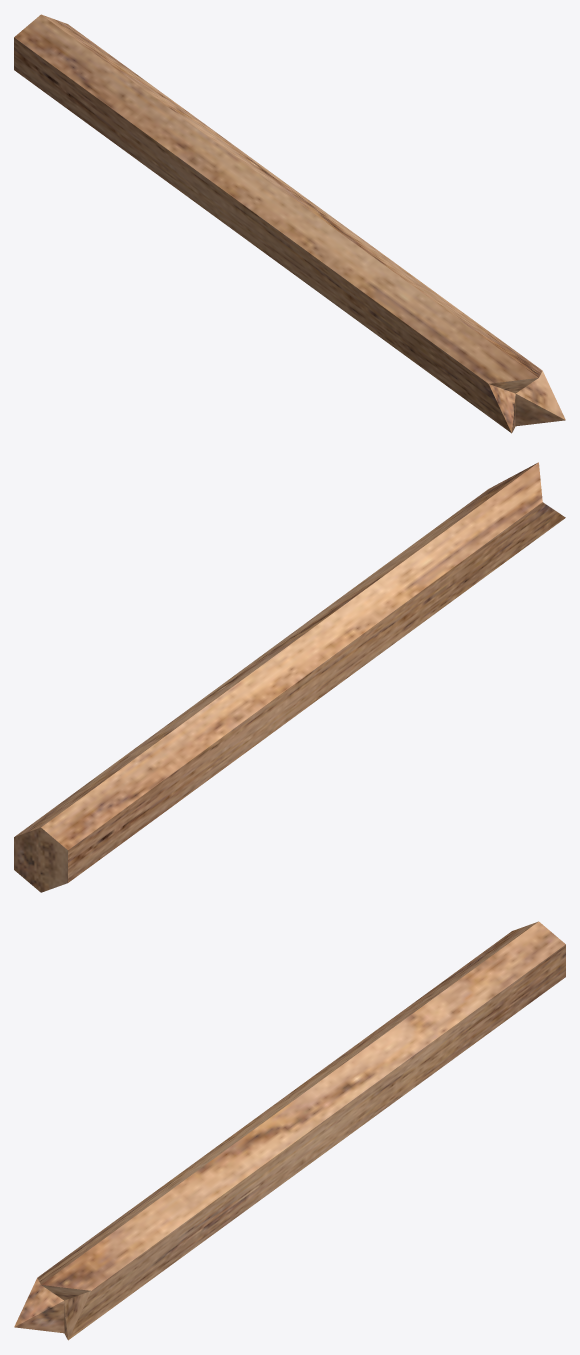
Rendered from PDH_broom_stick.fbx.
The picture shows the model from 3 angles, top to bottom: view 1: azimuth 30°, elevation 25°; view 2: azimuth 150°, elevation 25°; view 3: azimuth 330°, elevation 25°; orthographic projection.
Parts seen in each view (by area): view 1: broom_stick; view 2: broom_stick; view 3: broom_stick.
Boxes of the visible parts, box(x1,y1,x2,y2) form: broom_stick: box(14, 14, 565, 433); broom_stick: box(14, 462, 565, 892); broom_stick: box(14, 921, 565, 1340).
Size of the model in its own units: 47.49 by 757 by 55.61.
